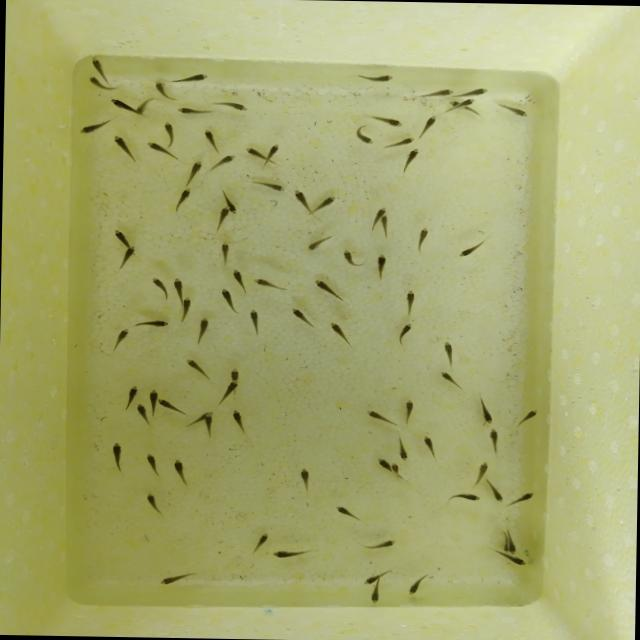fingerling: (313, 278, 351, 303), (112, 132, 139, 166), (473, 391, 498, 425), (143, 141, 180, 163), (326, 320, 354, 348), (456, 236, 490, 258), (406, 570, 434, 596), (158, 568, 198, 586), (110, 440, 130, 476), (303, 232, 335, 254), (182, 158, 206, 186), (290, 306, 318, 330), (292, 188, 314, 218), (78, 118, 114, 136), (183, 356, 210, 380), (144, 491, 168, 518), (366, 408, 400, 427), (359, 535, 399, 551), (359, 566, 394, 584), (146, 276, 172, 300), (251, 277, 290, 293), (439, 371, 466, 394), (417, 113, 439, 141), (512, 408, 540, 430), (174, 70, 210, 87), (207, 152, 236, 173), (250, 177, 288, 193), (296, 466, 316, 496), (157, 396, 187, 416), (200, 128, 223, 154), (401, 147, 423, 174), (173, 186, 194, 214), (228, 408, 249, 436), (481, 478, 503, 504), (332, 503, 362, 522), (170, 457, 190, 485), (355, 70, 395, 84), (110, 328, 132, 353), (271, 547, 313, 560), (496, 102, 530, 118), (400, 288, 418, 318), (508, 490, 538, 508), (452, 86, 490, 100), (417, 86, 455, 100), (485, 427, 504, 455), (218, 378, 240, 402), (342, 248, 366, 270), (394, 433, 412, 462), (312, 194, 338, 214), (250, 531, 270, 557), (112, 228, 138, 248), (380, 134, 417, 148), (172, 105, 215, 117), (247, 307, 264, 337), (243, 146, 266, 168), (352, 124, 376, 145), (150, 80, 174, 101), (132, 402, 152, 427), (212, 99, 250, 112), (212, 205, 230, 232), (414, 225, 432, 252), (396, 322, 416, 346), (142, 452, 162, 476), (372, 114, 406, 128), (448, 490, 482, 504), (230, 268, 248, 294), (401, 398, 417, 427), (123, 383, 139, 412), (496, 553, 529, 567), (178, 296, 194, 324), (108, 98, 135, 114), (134, 317, 170, 329), (89, 54, 108, 76), (136, 94, 155, 116), (222, 290, 238, 316), (118, 248, 136, 270), (196, 314, 210, 342), (375, 252, 388, 282), (162, 120, 179, 142), (472, 460, 492, 478), (422, 433, 436, 458), (218, 240, 231, 266), (440, 340, 454, 364), (146, 388, 160, 411), (460, 105, 484, 118), (378, 214, 391, 238), (172, 276, 186, 298), (85, 76, 102, 94), (264, 145, 280, 164), (368, 583, 382, 604), (202, 414, 214, 438), (374, 456, 390, 472), (507, 530, 516, 554), (390, 461, 401, 478), (459, 97, 476, 107), (225, 368, 242, 378), (374, 205, 387, 216), (228, 204, 238, 214)
